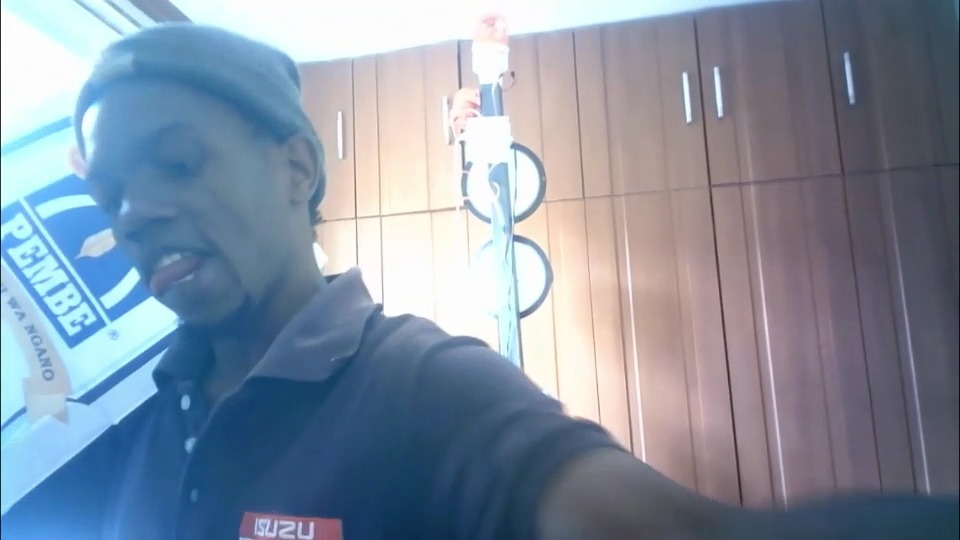wheat_flour_blue_label: (5, 117, 158, 464)
